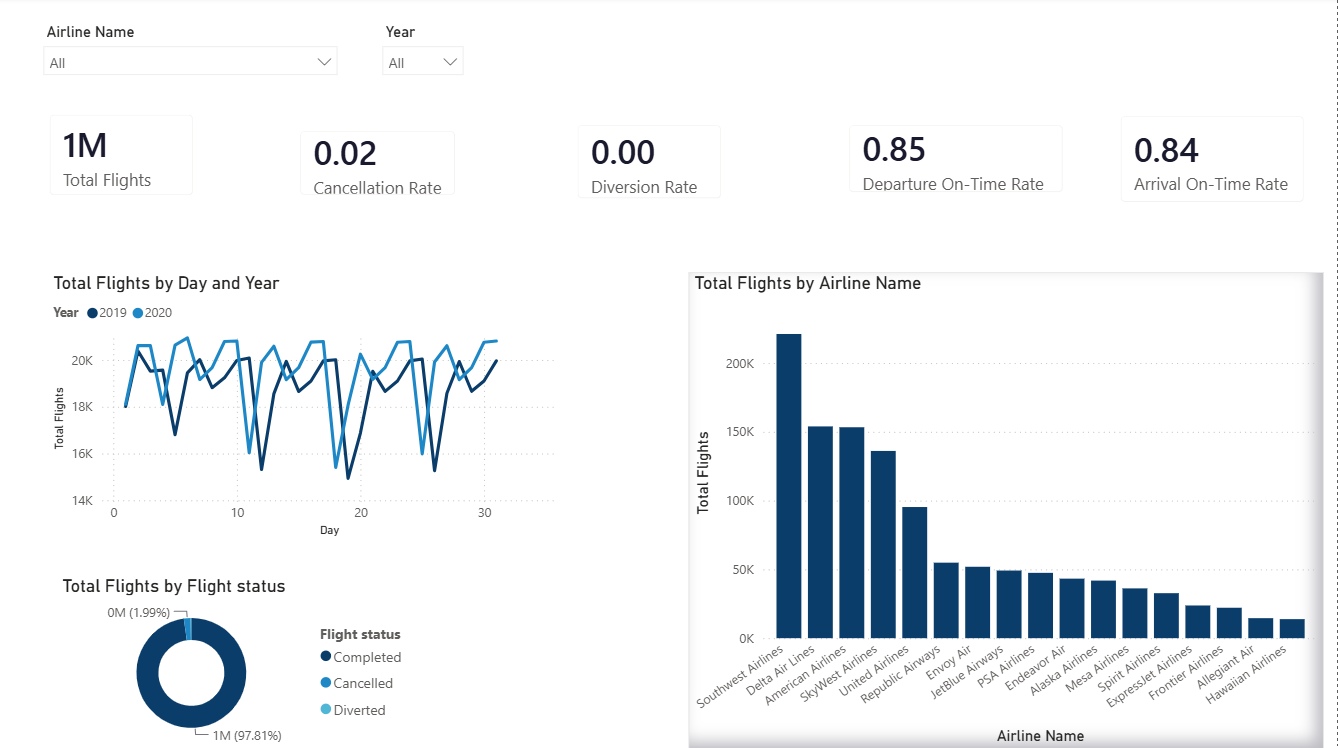

Layout of this report page (visuals, bound fields, positions):
{"tool":"powerbi","page":{"name":"Overview","canvas":[1280,720],"ordinal":0},"visuals":[{"type":"cardVisual","fields":{"Data":["_Measures.Total Flights"]},"box":[33.4,95.4,171.8,111.3],"z":0},{"type":"cardVisual","fields":{"Data":["_Measures.Departure On-Time Rate"]},"box":[796.9,106.6,238.3,98.7],"z":1000},{"type":"cardVisual","fields":{"Data":["_Measures.Arrival On-Time Rate"]},"box":[1056.2,97,210,116.1],"z":2000},{"type":"cardVisual","fields":{"Data":["_Measures.Cancellation Rate"]},"box":[272,111.3,182.9,95.4],"z":3000},{"type":"cardVisual","fields":{"Data":["_Measures.Diversion Rate"]},"box":[537.6,106.6,171.8,105],"z":4000},{"type":"lineChart","fields":{"Y":["_Measures.Total Flights"],"Category":["Flights.Day"],"Series":["Flights.Year"]},"box":[48.3,264,490,256.7],"z":5000},{"type":"clusteredColumnChart","fields":{"Category":["carrierlookup.Airline Name"],"Y":["_Measures.Total Flights"]},"box":[660.1,263.3,606.7,456.7],"z":6000},{"type":"donutChart","fields":{"Category":["Flights.Flight status"],"Y":["_Measures.Total Flights"]},"box":[57.3,553.5,349.9,167],"z":7000},{"type":"slicer","fields":{"Values":["Flights.Year"]},"box":[357.9,20.7,97,63.6],"z":8000},{"type":"slicer","fields":{"Values":["carrierlookup.Airline Name"]},"box":[35,20.7,300.6,74.8],"z":9000}]}

Visuals, with their boxes in screenshot pixels (x1, y1, x2, y2), scaled from the page's 1280x720 canvas onto the 1338x748 screenshot:
cardVisual - _Measures.Total Flights: (35,99,214,215)
cardVisual - _Measures.Departure On-Time Rate: (833,111,1082,213)
cardVisual - _Measures.Arrival On-Time Rate: (1104,101,1324,221)
cardVisual - _Measures.Cancellation Rate: (284,116,476,215)
cardVisual - _Measures.Diversion Rate: (562,111,742,220)
lineChart - _Measures.Total Flights x Flights.Day: (50,274,563,541)
clusteredColumnChart - carrierlookup.Airline Name x _Measures.Total Flights: (690,274,1324,747)
donutChart - Flights.Flight status x _Measures.Total Flights: (60,575,426,747)
slicer - Flights.Year: (374,22,476,88)
slicer - carrierlookup.Airline Name: (37,22,351,99)
